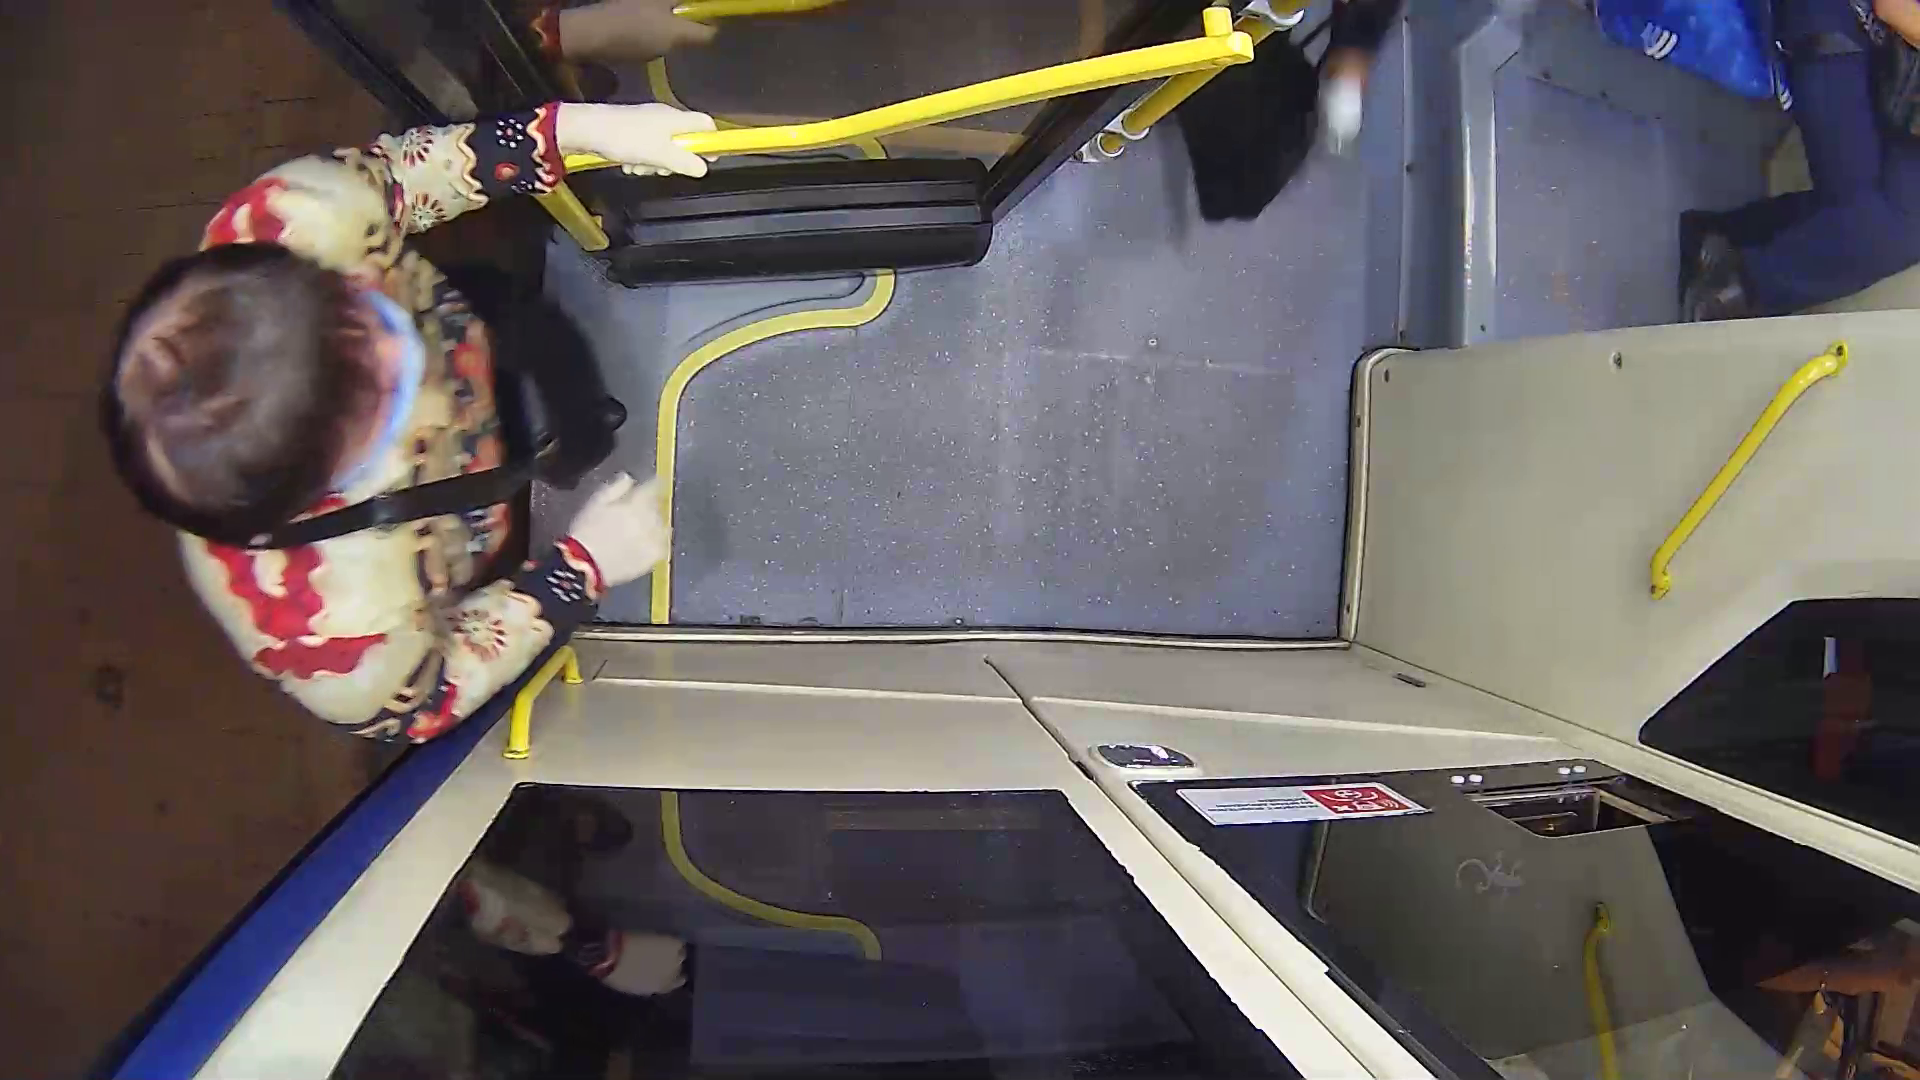person: (128, 87, 764, 690)
